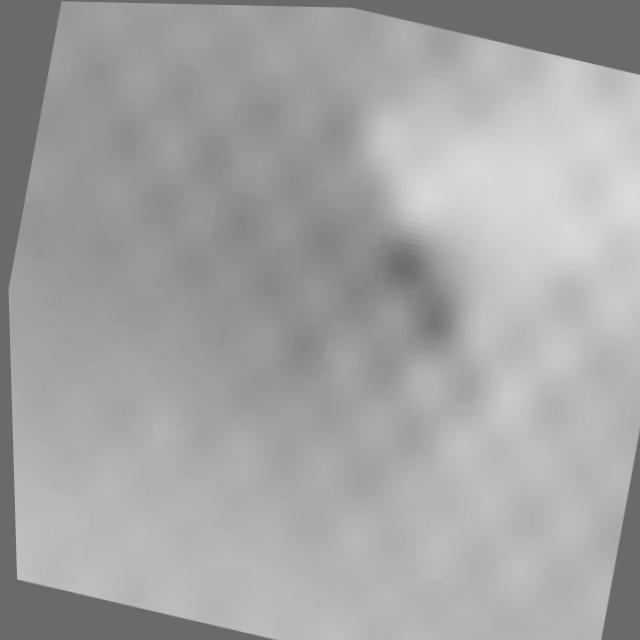person: (313, 18, 640, 549)
